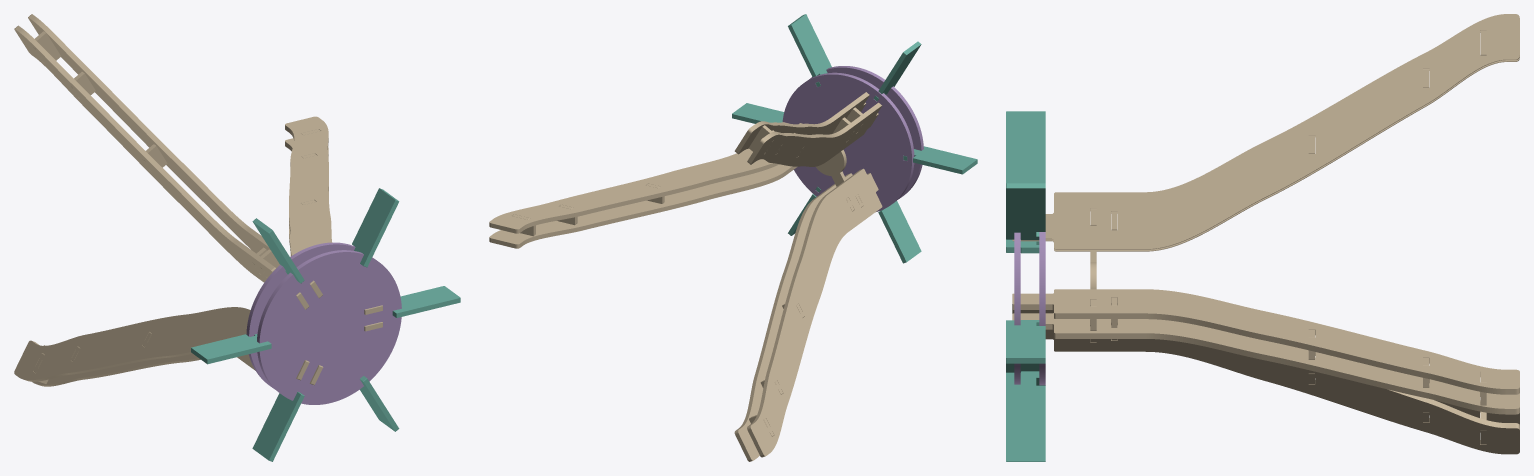
File: C-proposed-27-CR_REQUIRED.glb
The picture shows the model from 3 angles, left to right: view 1: azimuth 30°, elevation 25°; view 2: azimuth 150°, elevation 25°; view 3: azimuth 270°, elevation 25°; orthographic projection. The views are drawn at different scales.
Parts seen in each view (by area): view 1: P04U, L3_P01_1, L1_P01_2, L2_P01_2, L2_P01_1, P04L, P05_2, P05_5, P05_4, L3_P01_2, P05_1, P05_3 (+1 smaller); view 2: L3_P01_1, P04L, L1_P01_2, L1_P01_1, L2_P01_2, L3_P01_2, P04U, L2_P01_1, P05_2, P05_5, P05_4, P03 (+2 smaller); view 3: L2_P01_1, L1_P01_2, L3_P01_2, L1_P01_1, P05_6, P05_3, P05_2, P05_1, L2_P01_2, P04L, P04U, L3_P01_1 (+1 smaller).
Part boxes in pixels (<box>): P04U: <box>257,250,401,404</box>; L3_P01_1: <box>14,307,309,381</box>; L1_P01_2: <box>285,116,382,314</box>; L2_P01_2: <box>14,25,309,309</box>; L2_P01_1: <box>28,14,322,298</box>; P04L: <box>246,242,355,389</box>; P05_2: <box>352,188,399,267</box>; P05_5: <box>252,391,304,461</box>; P05_4: <box>191,334,271,364</box>; L3_P01_2: <box>32,345,323,386</box>; P05_1: <box>392,286,460,317</box>; P05_3: <box>252,218,304,283</box>; L3_P01_1: <box>747,168,882,457</box>; P04L: <box>782,72,914,211</box>; L1_P01_2: <box>489,122,802,233</box>; L1_P01_1: <box>489,164,797,248</box>; L2_P01_2: <box>747,102,882,166</box>; L3_P01_2: <box>734,173,852,461</box>; P04U: <box>809,66,923,199</box>; L2_P01_1: <box>734,92,869,154</box>; P05_2: <box>788,14,831,86</box>; P05_5: <box>878,201,921,263</box>; P05_4: <box>903,146,977,174</box>; P03: <box>816,107,863,207</box>; L2_P01_1: <box>1045,14,1519,249</box>; L1_P01_2: <box>1012,289,1519,394</box>; L3_P01_2: <box>1045,323,1519,454</box>; L1_P01_1: <box>1012,313,1519,414</box>; P05_6: <box>1006,371,1045,461</box>; P05_3: <box>1006,111,1045,183</box>; P05_2: <box>1006,183,1045,240</box>; P05_1: <box>1006,320,1045,363</box>; L2_P01_2: <box>1012,31,1519,251</box>; P04L: <box>1039,232,1045,385</box>; P04U: <box>1014,232,1020,384</box>; L3_P01_1: <box>1012,303,1519,432</box>.
Size of the model in its own units: 0.431 by 0.4673 by 0.494.
